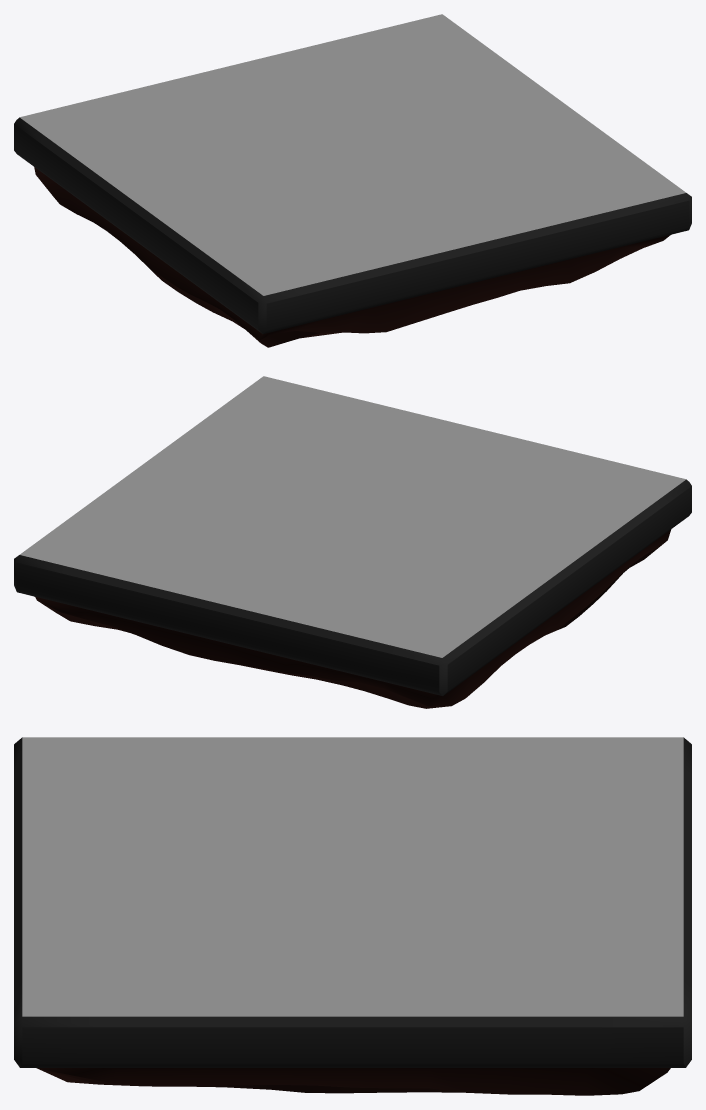
File: MET_Platforme_4x4x0_75_Pierre_01.fbx
3 renders of one model, top to bottom at view 1: azimuth 30°, elevation 25°; view 2: azimuth 150°, elevation 25°; view 3: azimuth 270°, elevation 25°, orthographic. The views are drawn at different scales.
Visible parts, largest first — view 1: MET_Platforme_Petit_Pierre_01_LOD0; view 2: MET_Platforme_Petit_Pierre_01_LOD0; view 3: MET_Platforme_Petit_Pierre_01_LOD0.
Boxes of the visible parts, box(x1,y1,x2,y2) form: MET_Platforme_Petit_Pierre_01_LOD0: box(14, 14, 691, 347); MET_Platforme_Petit_Pierre_01_LOD0: box(14, 376, 691, 708); MET_Platforme_Petit_Pierre_01_LOD0: box(14, 737, 691, 1095).
Bounding box in the file's own units: 400 × 75 × 400.
